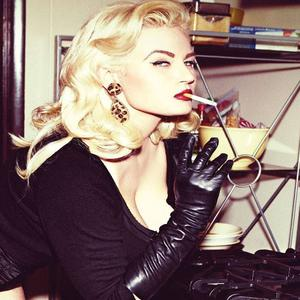cigarette: (183, 93, 218, 108)
